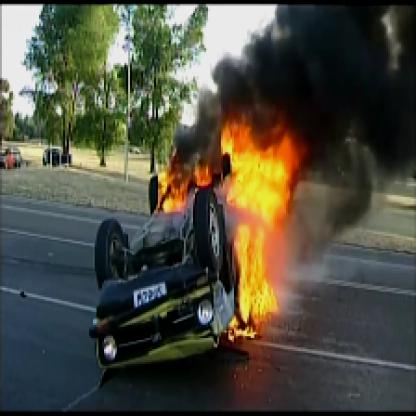Fire: (156, 87, 351, 344)
